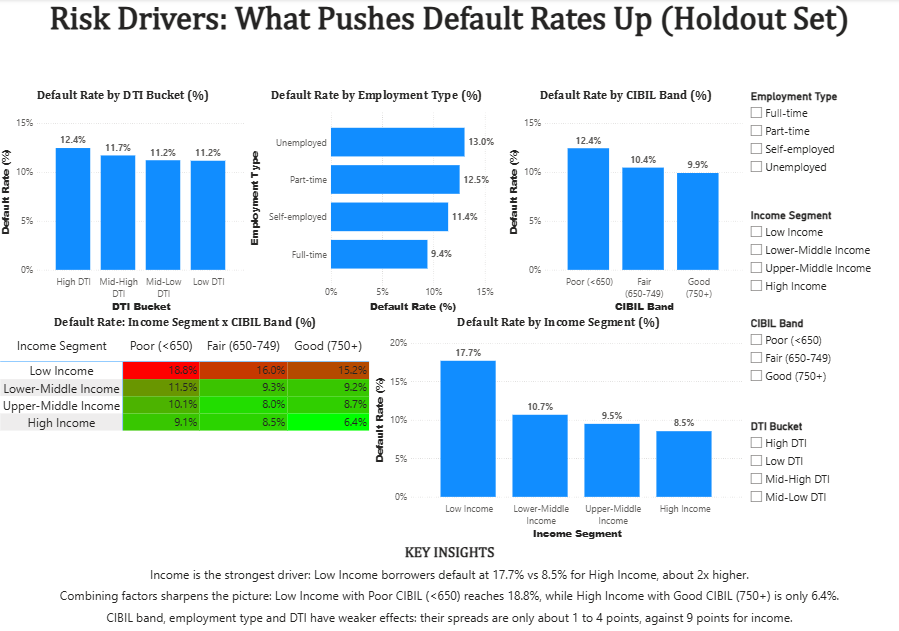

This screenshot's page, from the dashboard's own definition file:
{"tool":"powerbi","page":{"name":"Risk Drivers","canvas":[2000,1400],"ordinal":1},"visuals":[{"type":"clusteredColumnChart","title":"Default Rate by Income Segment (%)","fields":{"Category":["loan_scored_final_sql.IncomeSegment"],"Y":["loan_scored_final_sql.Default Rate %"]},"box":[828.5,700,826.3,502.8],"z":0},{"type":"clusteredBarChart","title":"Default Rate by Employment Type (%)","fields":{"Category":["loan_scored_final_sql.EmploymentType"],"Y":["loan_scored_final_sql.Default Rate %"]},"box":[551.6,197.2,573.7,502.8],"z":1000},{"type":"clusteredColumnChart","title":"Default Rate by CIBIL Band (%)","fields":{"Category":["loan_scored_final_sql.CIBILBand"],"Y":["loan_scored_final_sql.Default Rate %"]},"box":[1125.3,197.2,529.4,502.8],"z":2000},{"type":"pivotTable","title":"Default Rate: Income Segment x CIBIL Band (%)","fields":{"Rows":["loan_scored_final_sql.IncomeSegment"],"Columns":["loan_scored_final_sql.CIBILBand"],"Values":["loan_scored_final_sql.Default Rate %"]},"box":[0,700,828.5,270.3],"z":3000},{"type":"clusteredColumnChart","title":"Default Rate by DTI Bucket (%)","fields":{"Category":["loan_scored_final_sql.DTIBucket"],"Y":["loan_scored_final_sql.Default Rate %"]},"box":[0,197.2,551.6,502.8],"z":4000},{"type":"slicer","fields":{"Values":["loan_scored_final_sql.EmploymentType"]},"box":[1654.7,197.2,345.6,206],"z":5000},{"type":"slicer","fields":{"Values":["loan_scored_final_sql.IncomeSegment"]},"box":[1654.7,460.8,345.6,206],"z":6000},{"type":"slicer","fields":{"Values":["loan_scored_final_sql.CIBILBand"]},"box":[1654.7,700,345.6,172.8],"z":7000},{"type":"textbox","box":[0,0,2000.3,97.5],"z":8000},{"type":"slicer","fields":{"Values":["loan_scored_final_sql.DTIBucket"]},"box":[1654.7,928.2,345.6,274.7],"z":9000},{"type":"textbox","box":[0,1202.8,2000.3,48.7],"z":10000},{"type":"textbox","box":[0,1251.6,2000.3,46.5],"z":11000},{"type":"textbox","box":[0,1298.1,2000.3,48.7],"z":12000},{"type":"textbox","box":[0,1346.8,2000.3,53.2],"z":13000}]}

Visuals, with their boxes in screenshot pixels (x1, y1, x2, y2), scaled from the page's 2000x1400 canvas onto the 899x631 screenshot:
"Default Rate by Income Segment (%)" clusteredColumnChart: 372/316/744/542
"Default Rate by Employment Type (%)" clusteredBarChart: 248/89/506/316
"Default Rate by CIBIL Band (%)" clusteredColumnChart: 506/89/744/316
"Default Rate: Income Segment x CIBIL Band (%)" pivotTable: 0/316/372/437
"Default Rate by DTI Bucket (%)" clusteredColumnChart: 0/89/248/316
slicer - loan_scored_final_sql.EmploymentType: 744/89/898/182
slicer - loan_scored_final_sql.IncomeSegment: 744/208/898/301
slicer - loan_scored_final_sql.CIBILBand: 744/316/898/393
textbox: 0/0/898/44
slicer - loan_scored_final_sql.DTIBucket: 744/418/898/542
textbox: 0/542/898/564
textbox: 0/564/898/585
textbox: 0/585/898/607
textbox: 0/607/898/630
